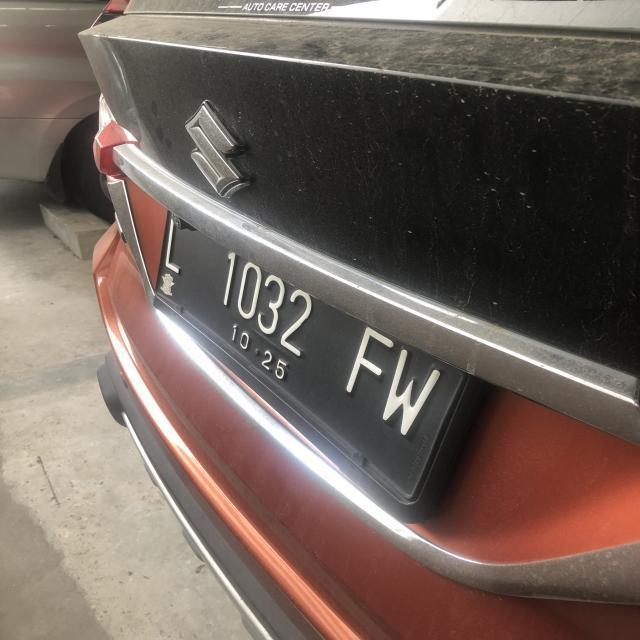0: (237, 266, 264, 322)
1: (219, 252, 241, 308)
2: (278, 292, 317, 358)
3: (256, 273, 288, 334)
F: (346, 324, 392, 396)
L: (163, 218, 187, 275)
W: (379, 353, 445, 436)
